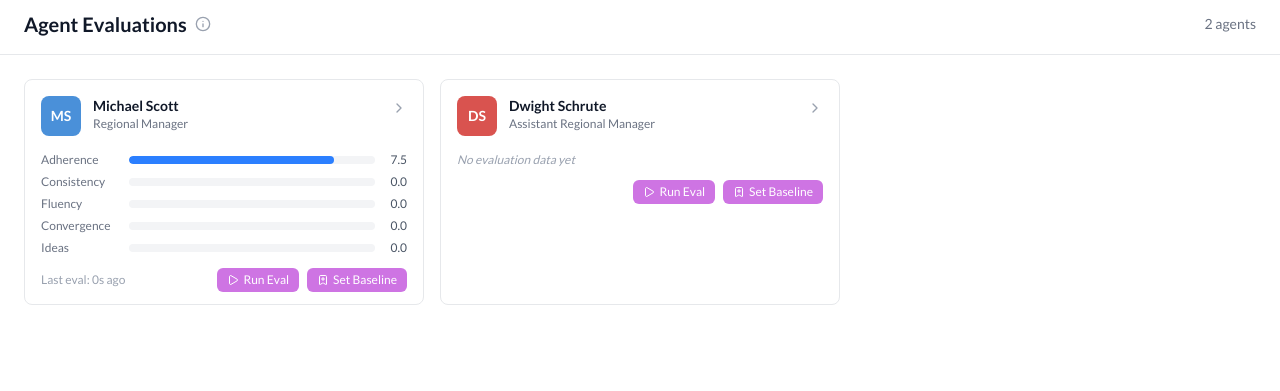
Test: EvalsPage › expands run history on card click
Check: the text "Run History" is not shown
Click the button "MS Michael Scott Regional Manager" at (61, 116), box x1=25 y1=80 x2=423 y2=152
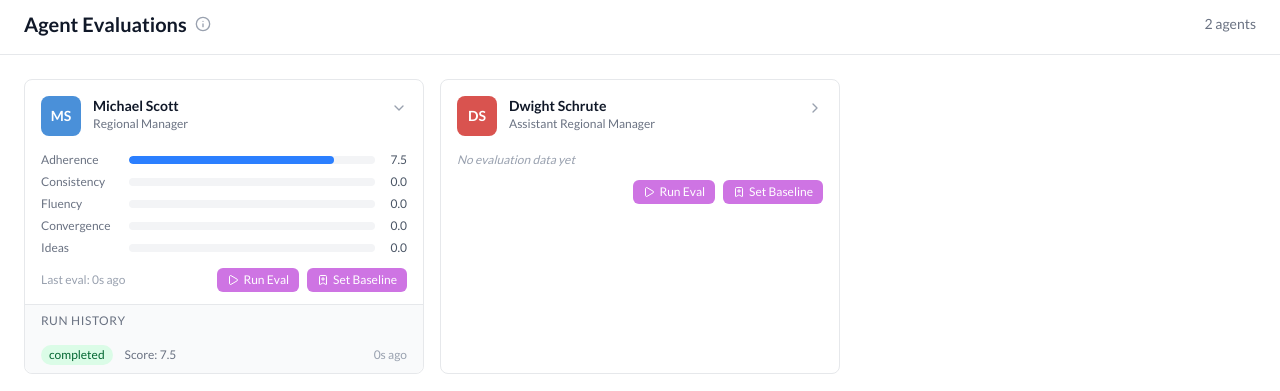
Check: the text "Run History" is shown, box x1=41 y1=313 x2=126 y2=328
